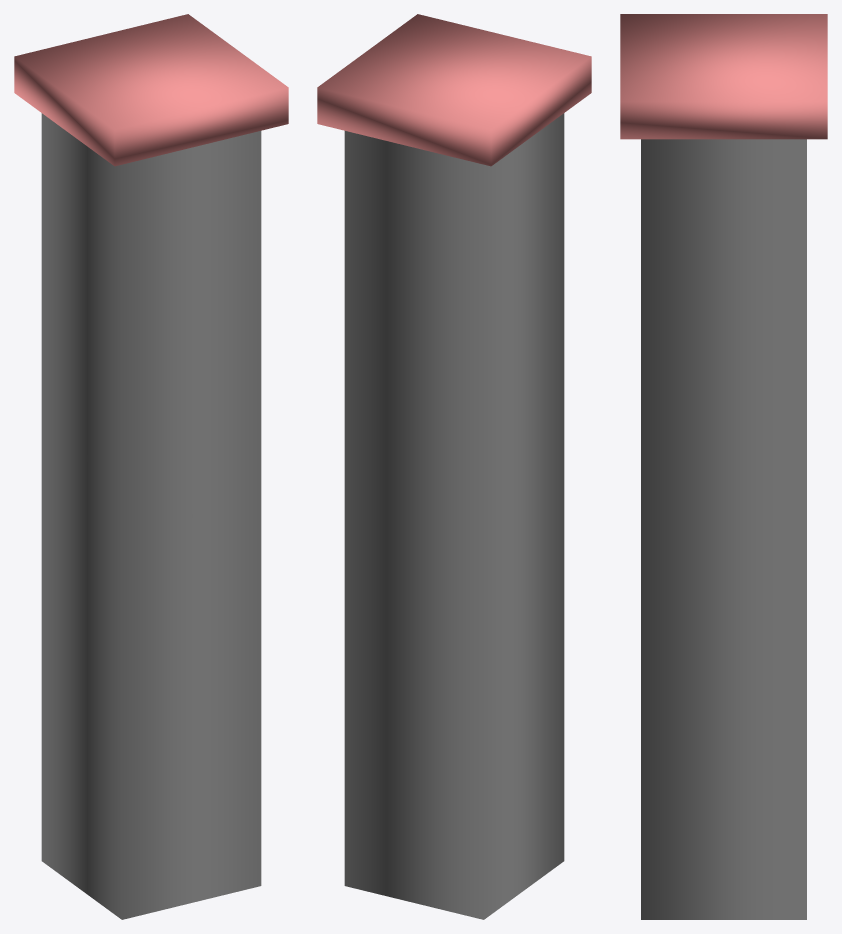
The model's file is SM_wallAttic_01_corner.gltf.
3 views of the same model, side by side, from view 1: azimuth 30°, elevation 25°; view 2: azimuth 150°, elevation 25°; view 3: azimuth 270°, elevation 25° (orthographic). The views are drawn at different scales.
Parts seen in each view (by area): view 1: SM_wallAttic_01_corner; view 2: SM_wallAttic_01_corner; view 3: SM_wallAttic_01_corner.
Part boxes in pixels (x1,y1,x2,y2): SM_wallAttic_01_corner: (14,14,288,919); SM_wallAttic_01_corner: (317,14,591,919); SM_wallAttic_01_corner: (620,14,827,919).
Bounding box in the file's own units: 0.5 × 2.2 × 0.5.
